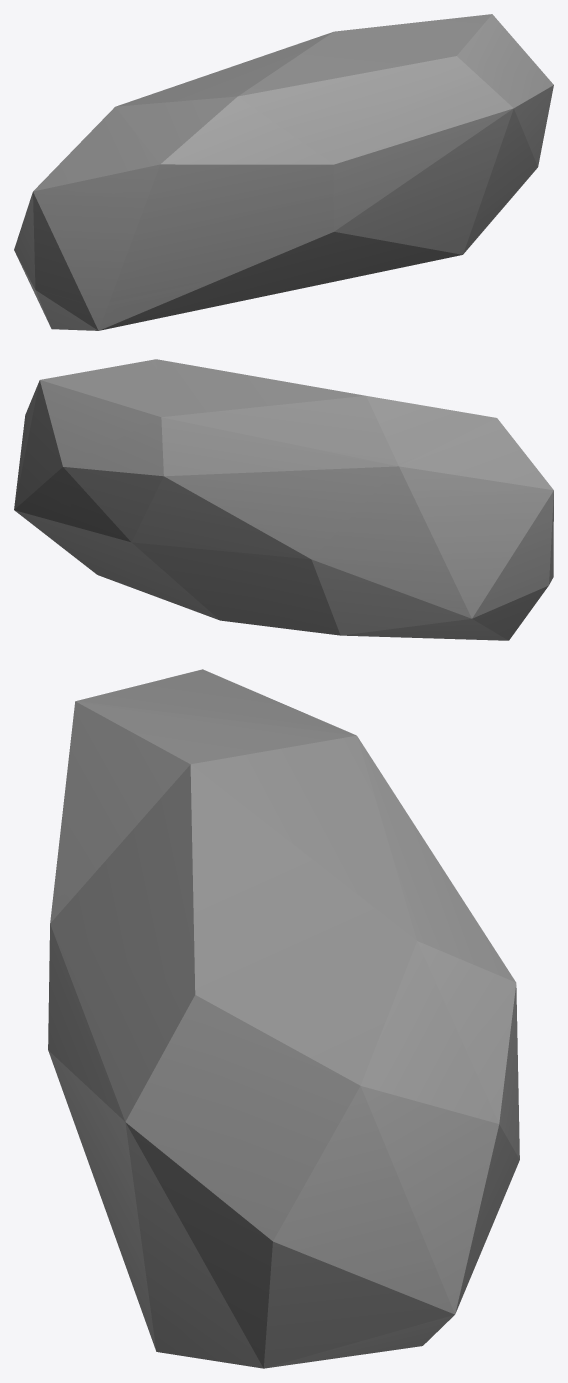
Rendered from rock_big_long.fbx.
The picture shows the model from 3 angles, top to bottom: view 1: azimuth 30°, elevation 25°; view 2: azimuth 150°, elevation 25°; view 3: azimuth 270°, elevation 25°; orthographic projection. The views are drawn at different scales.
Parts seen in each view (by area): view 1: rock_big_long; view 2: rock_big_long; view 3: rock_big_long.
Boxes of the visible parts, left/top/right/bottom form: rock_big_long: left=14, top=14, right=553, bottom=330; rock_big_long: left=14, top=359, right=553, bottom=640; rock_big_long: left=48, top=669, right=519, bottom=1368.
Size of the model in its own units: 4 by 1.45 by 1.6.
Materials: 1 (1 with a texture image).
